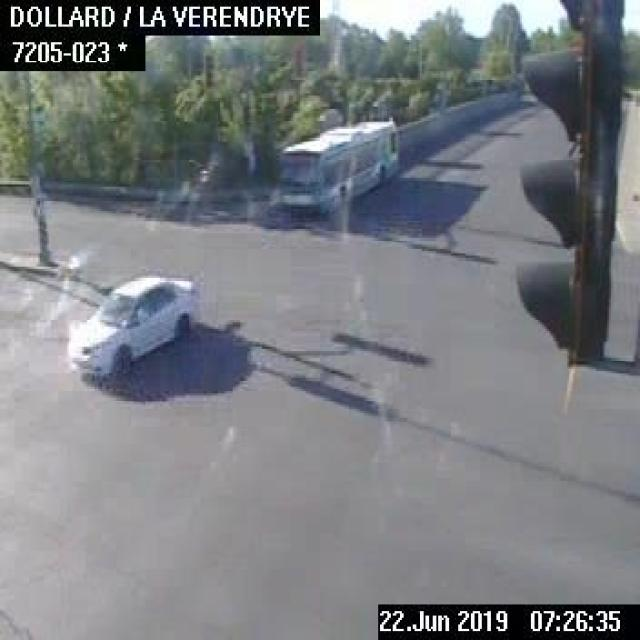bus: (275, 115, 400, 218)
vehicle: (65, 271, 202, 380)
